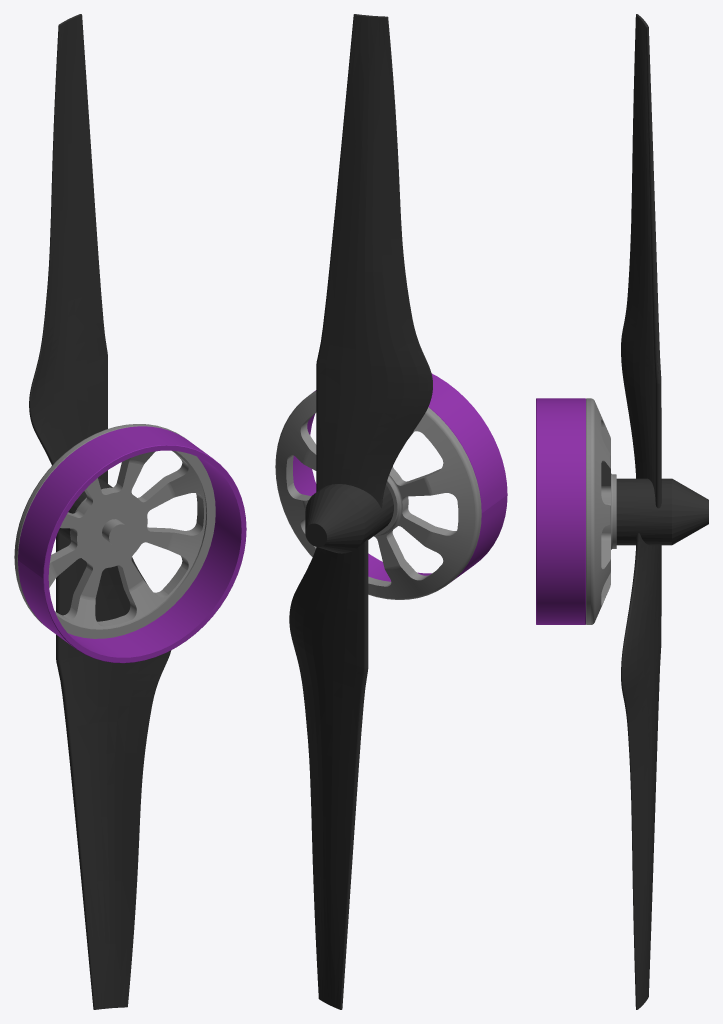
The model's file is prop_bl.dae.
3 views of the same model, side by side, from view 1: azimuth 30°, elevation 25°; view 2: azimuth 150°, elevation 25°; view 3: azimuth 270°, elevation 25° (orthographic). The views are drawn at different scales.
Visible parts, largest first — view 1: tmp_export_Body1.007; view 2: tmp_export_Body1.007; view 3: tmp_export_Body1.007.
Part boxes in pixels (x1,y1,x2,y2): tmp_export_Body1.007: (14,14,246,1009); tmp_export_Body1.007: (275,14,507,1009); tmp_export_Body1.007: (536,14,708,1009).
Size of the model in its own units: 5.9 by 4.5 by 27.68.
